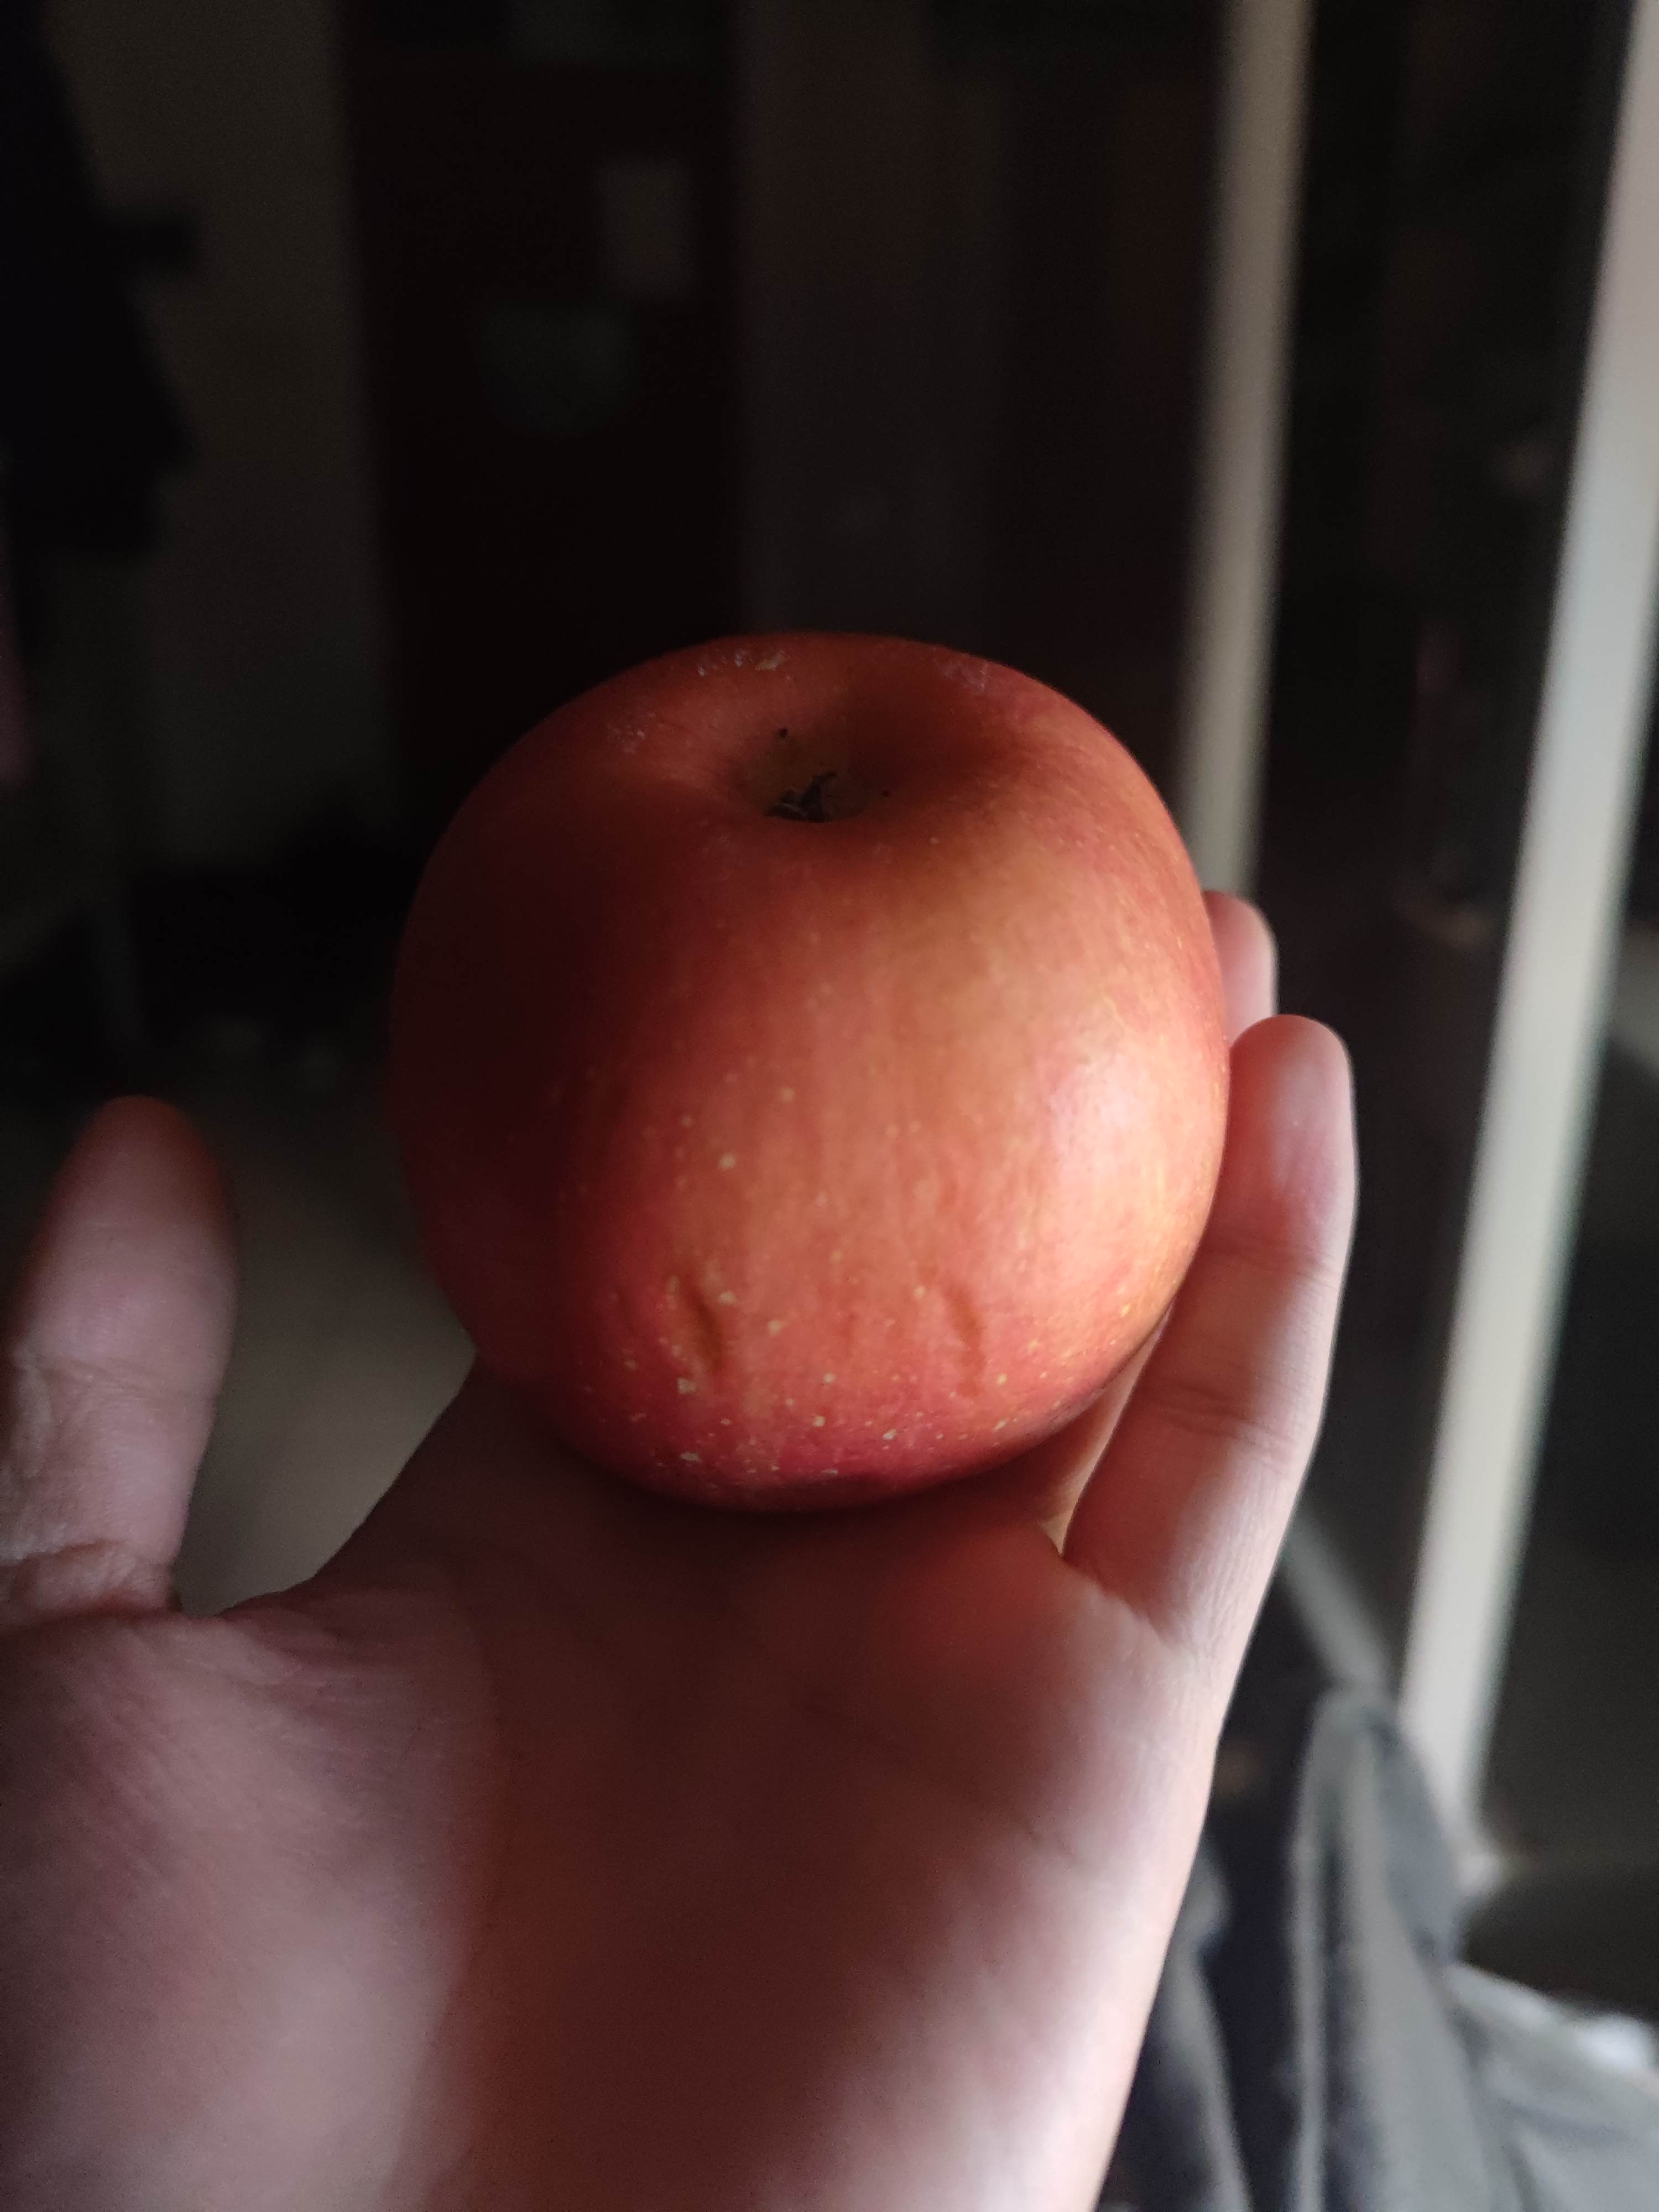apple: (383, 639, 1256, 1512)
